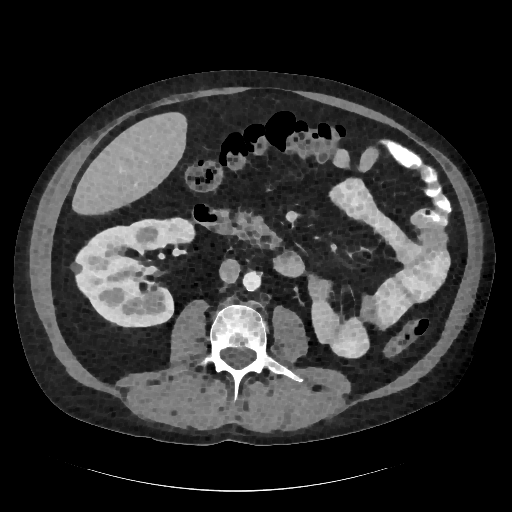Lesion: (67, 261, 84, 277)
